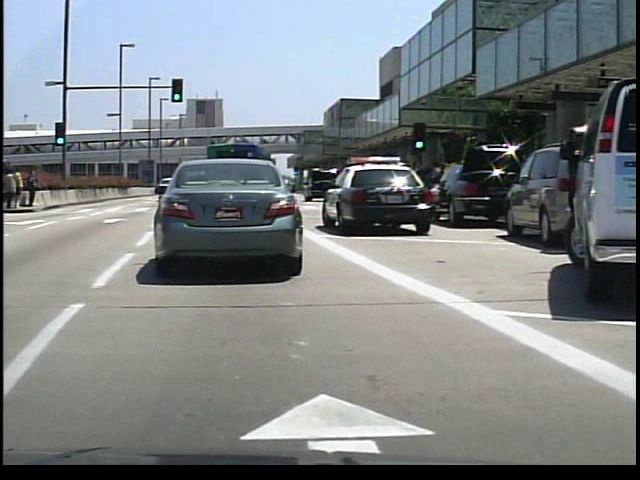person: (24, 166, 39, 209), (12, 162, 23, 210)
